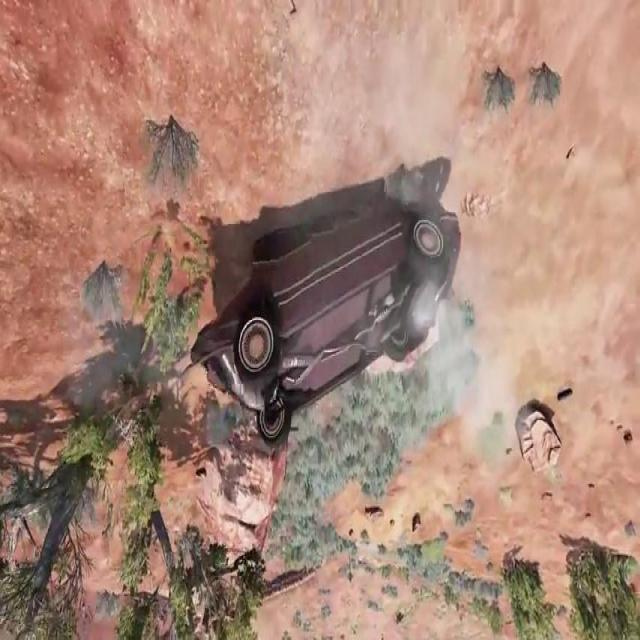severe: (185, 184, 463, 454)
